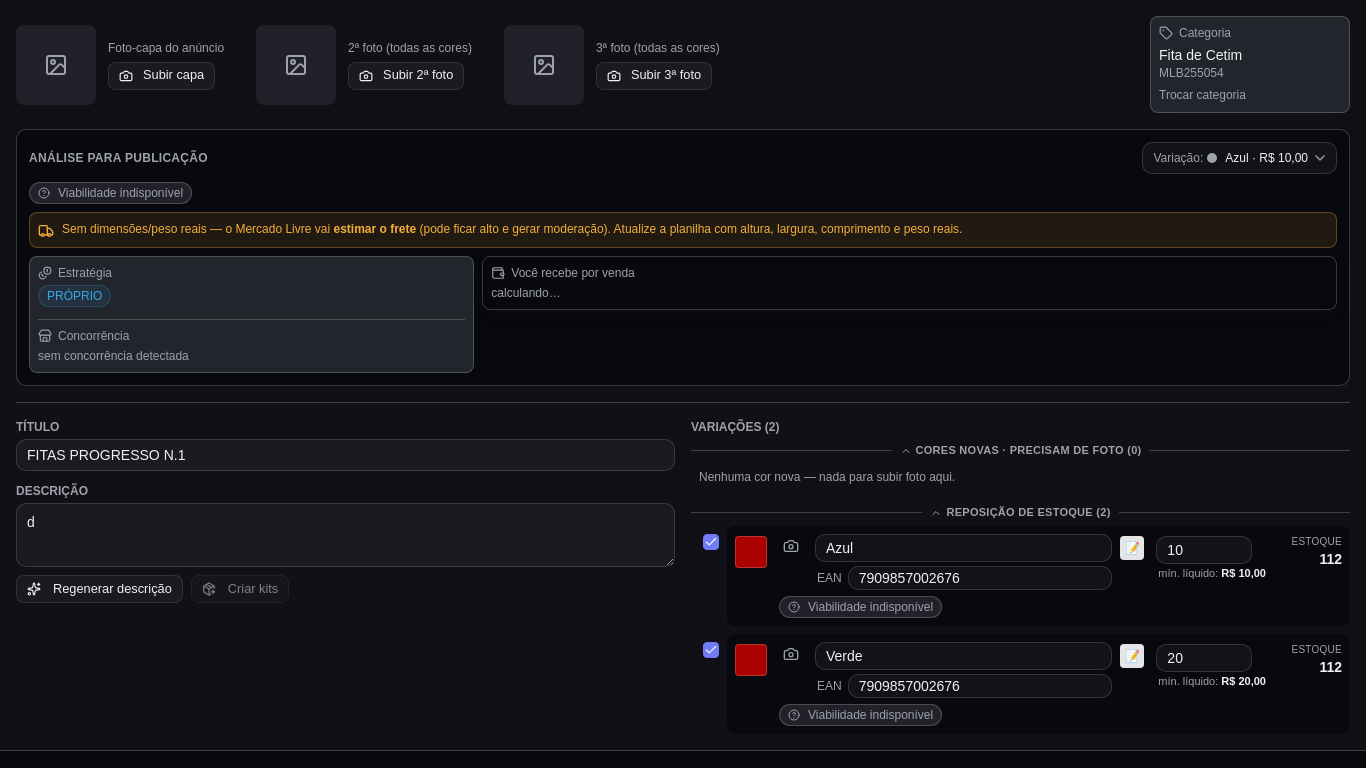
FamiliaExpanded — prompt "aplicar às demais?" (ADR-0078 F2b, achado do review) › UPDATE já publicado, "Não" cruzaria uma faixa no ar → avisa que vai exigir dividir o anúncio
Step 1. Replace the text in the 2nd field showing "10" with "15" → point(1204, 550), box [1156,536,1252,564]
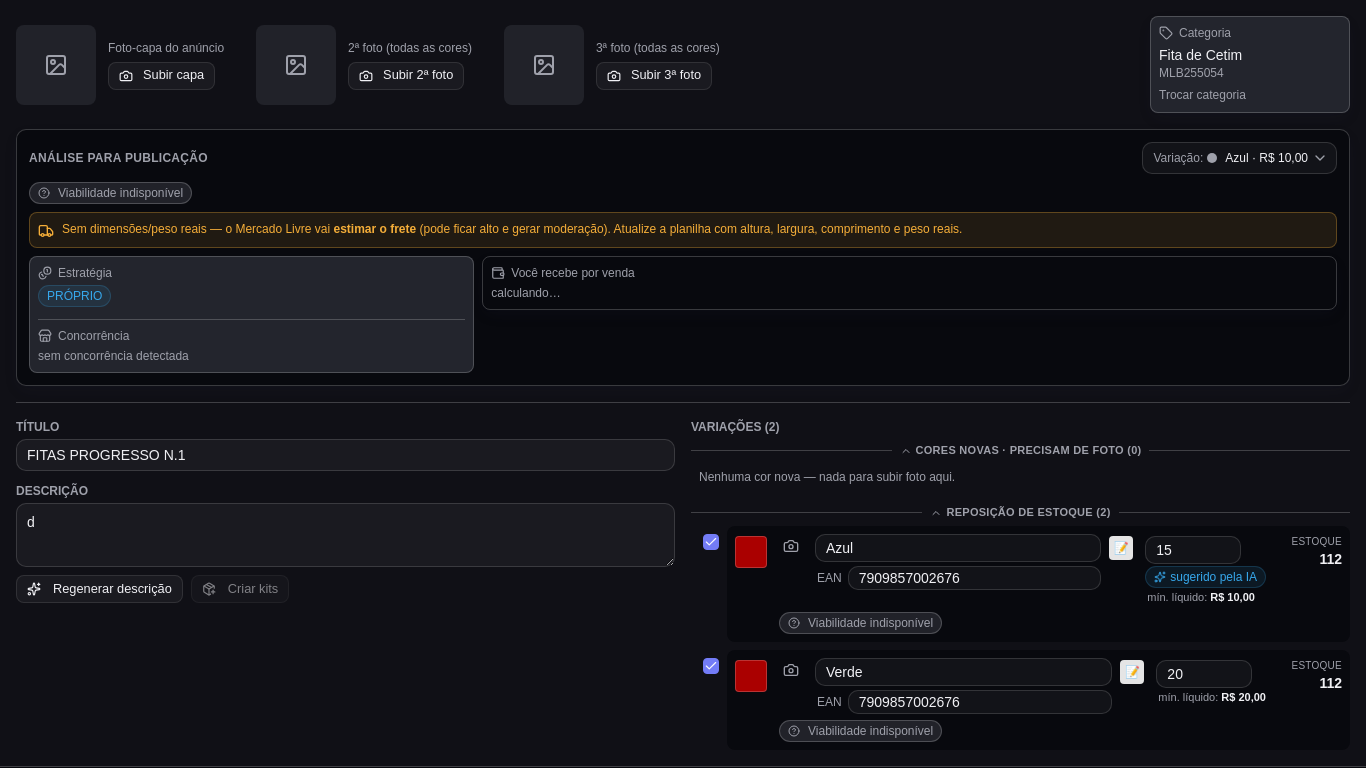
Step 2. Leave the 2nd field showing "10", box [1145,536,1241,564]
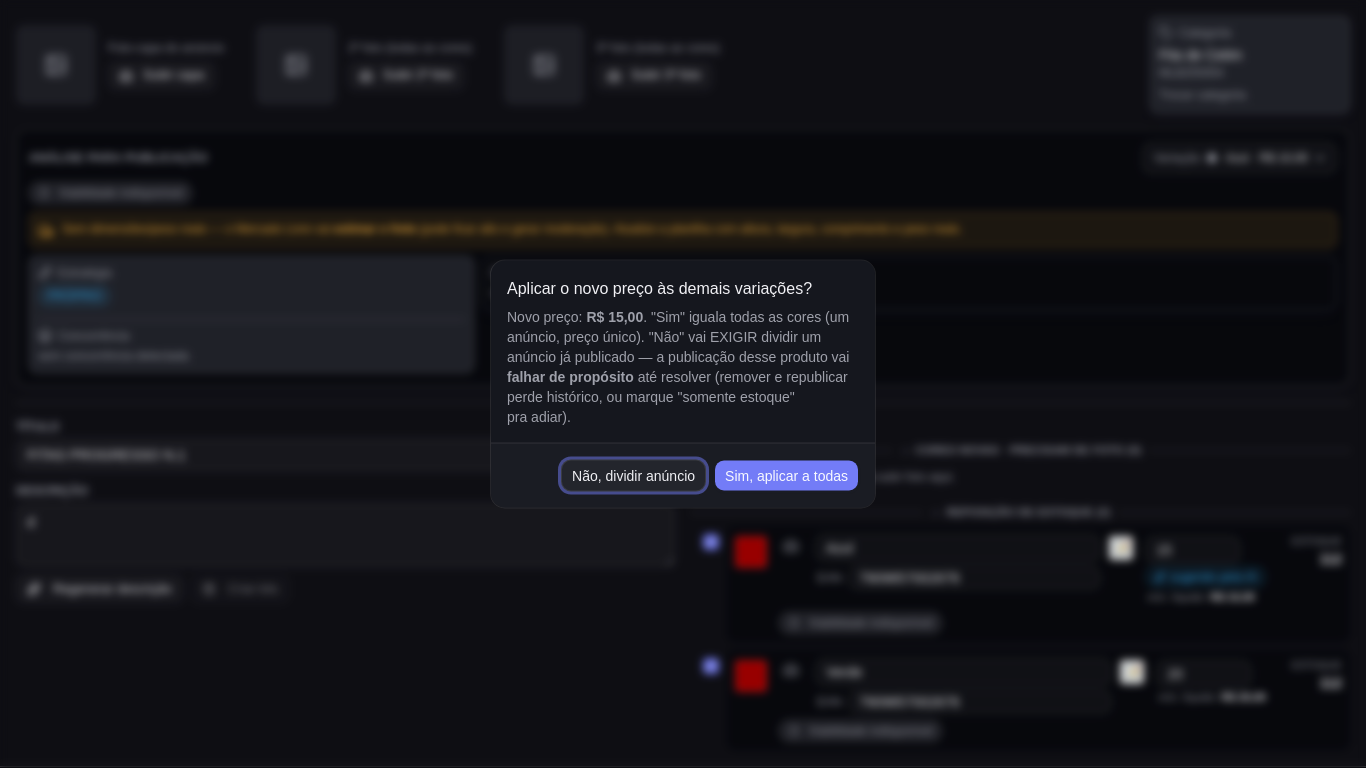
Expected: the heading "Aplicar o novo preço às demais variações?" is shown, [507,276,812,300]
Expected: the text "EXIGIR dividir um anúncio já publicado" is shown, [507,308,850,364]
Expected: the text "falhar de propósito" is shown, [507,368,634,384]
